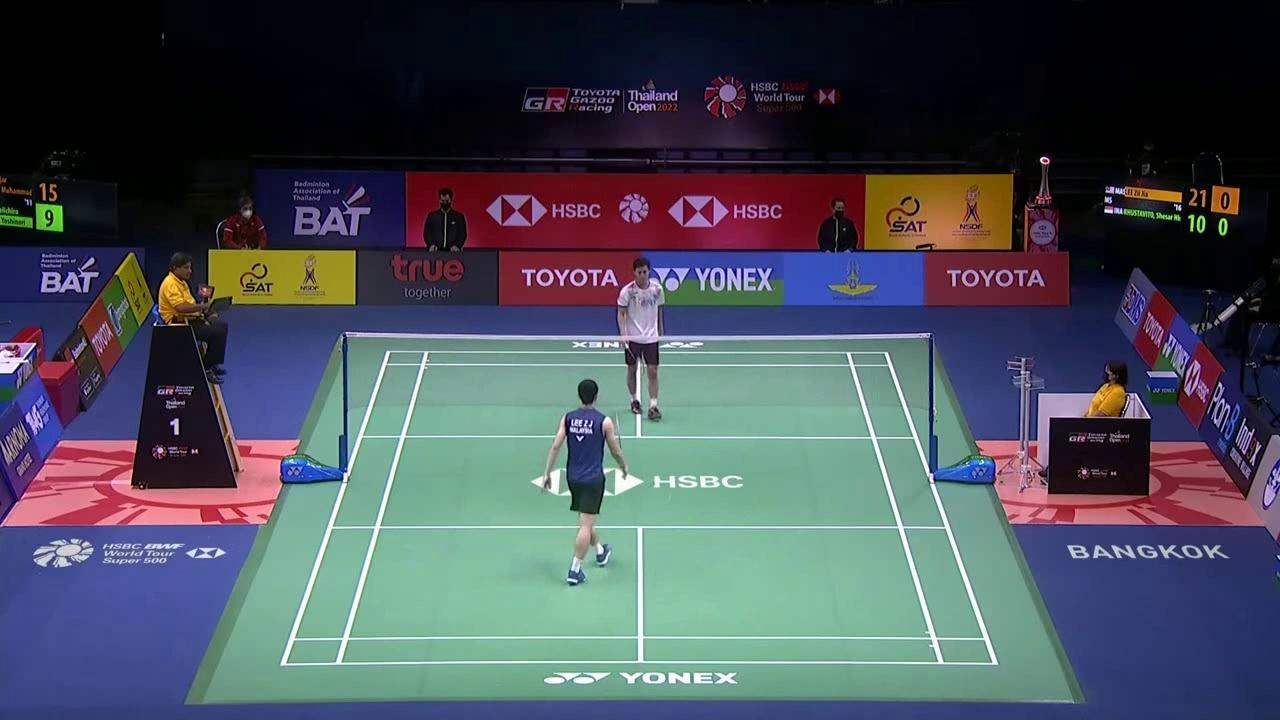racket: (613, 412, 628, 479), (620, 337, 645, 376)
shuttle: (653, 477, 660, 484)
